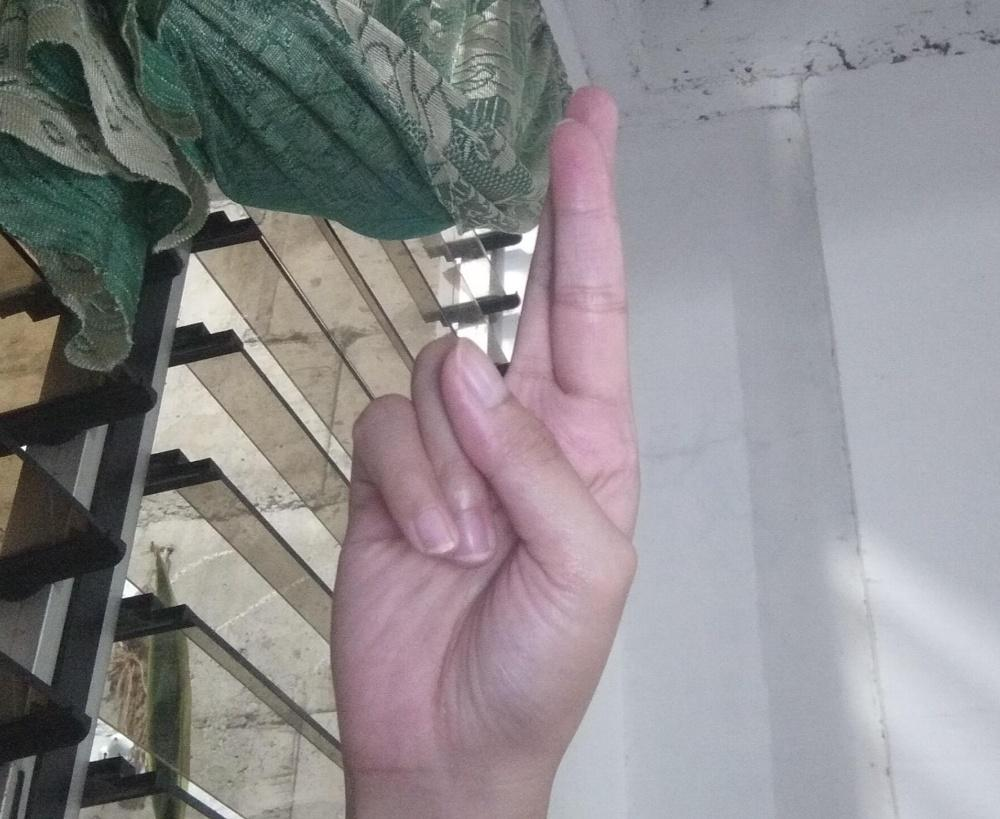r: (326, 84, 643, 776)
